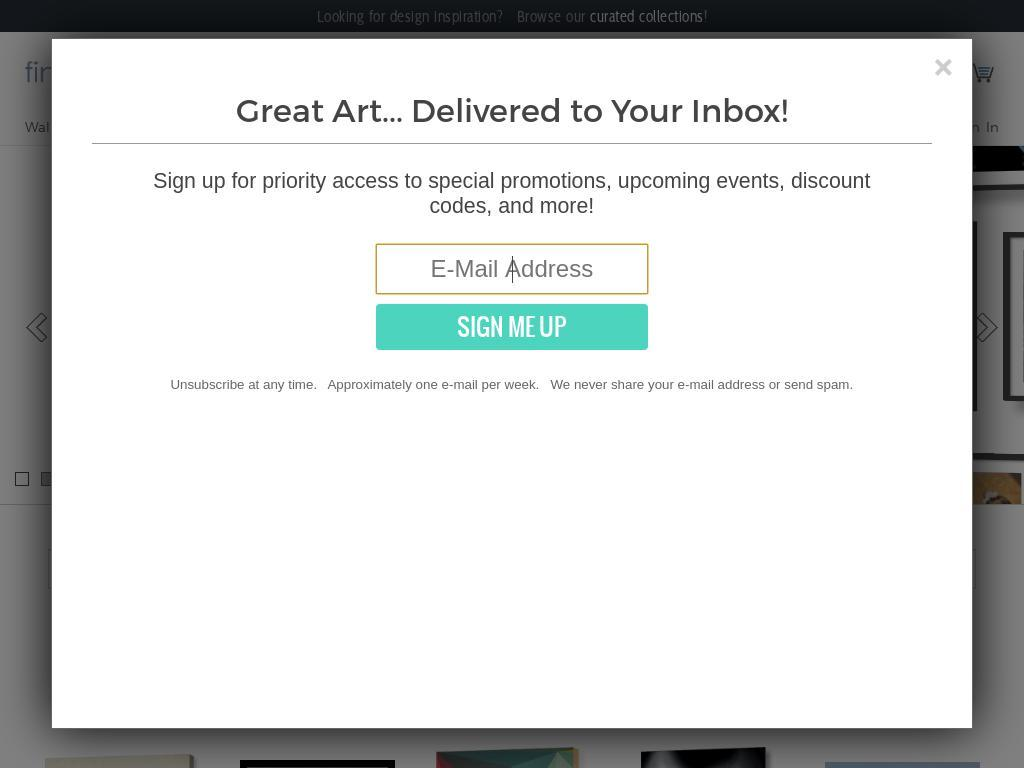button: (0, 146, 1024, 505), (0, 146, 1024, 505), (0, 146, 1024, 505), (0, 146, 1024, 505), (461, 549, 587, 590), (865, 549, 976, 590), (348, 549, 453, 590), (95, 111, 211, 147), (146, 549, 247, 590), (770, 111, 879, 147), (595, 549, 688, 590), (48, 549, 138, 590), (534, 111, 636, 147), (696, 549, 783, 590), (354, 111, 451, 147), (255, 549, 340, 590), (129, 327, 229, 361), (211, 111, 294, 147), (451, 111, 534, 147), (791, 549, 857, 590), (25, 111, 95, 147), (936, 111, 999, 147), (781, 60, 865, 86), (294, 111, 354, 147), (879, 111, 936, 147), (712, 60, 778, 86), (868, 60, 926, 86), (70, 381, 152, 391), (219, 381, 289, 391), (153, 381, 217, 391), (652, 64, 678, 82), (969, 65, 999, 78)
field: (256, 56, 652, 90)
heading: (51, 242, 308, 313)
image: (475, 445, 728, 595), (479, 443, 732, 592), (552, 45, 748, 173), (555, 49, 750, 177), (489, 231, 627, 392), (495, 232, 633, 393), (803, 234, 942, 384), (805, 233, 943, 383), (349, 61, 430, 189), (354, 64, 435, 192), (805, 38, 886, 166), (803, 42, 884, 170), (349, 253, 430, 381), (354, 253, 435, 381), (664, 248, 745, 376), (349, 452, 430, 580), (354, 450, 435, 578), (778, 459, 859, 587), (926, 465, 1007, 593), (923, 462, 1004, 590), (349, 635, 430, 763), (354, 631, 435, 759), (479, 637, 560, 765), (664, 249, 745, 376), (779, 462, 860, 589), (475, 642, 556, 768), (609, 644, 690, 768), (949, 34, 1024, 162), (608, 649, 688, 768), (745, 652, 826, 768), (953, 30, 1024, 158), (746, 657, 827, 768), (25, 60, 225, 84), (463, 602, 751, 614), (436, 747, 589, 768), (463, 431, 751, 442), (640, 747, 775, 768), (540, 33, 771, 44), (540, 195, 771, 206), (475, 69, 499, 173), (479, 72, 502, 176), (791, 224, 803, 409), (463, 431, 475, 615), (45, 754, 200, 768), (620, 219, 631, 415), (477, 227, 488, 423), (477, 403, 650, 415), (791, 221, 964, 233), (973, 221, 984, 406), (742, 436, 753, 620), (337, 54, 349, 217), (766, 33, 778, 196), (540, 44, 552, 207), (337, 242, 349, 405), (999, 232, 1011, 395), (337, 438, 349, 601), (766, 447, 778, 610), (791, 32, 803, 194), (766, 236, 778, 398), (477, 219, 650, 230), (791, 407, 964, 418), (441, 49, 452, 212), (937, 24, 948, 187), (441, 440, 452, 603), (911, 450, 922, 613), (337, 619, 349, 768), (911, 26, 922, 188), (441, 241, 452, 403), (652, 238, 663, 400), (885, 450, 896, 612), (463, 625, 475, 768), (463, 59, 475, 198), (1011, 243, 1024, 371), (441, 624, 452, 768), (733, 640, 745, 768), (517, 57, 528, 195), (572, 631, 583, 768), (596, 632, 607, 768), (709, 638, 720, 768), (791, 191, 907, 203), (337, 438, 453, 450), (766, 606, 882, 618), (463, 625, 579, 637), (652, 394, 767, 406), (851, 646, 862, 768), (337, 49, 453, 60), (337, 202, 453, 213), (791, 26, 907, 37), (337, 241, 453, 252), (337, 391, 453, 402), (337, 586, 453, 597), (766, 447, 882, 458), (337, 619, 453, 630), (733, 640, 849, 651), (652, 236, 767, 247), (596, 632, 711, 643), (911, 450, 1024, 461), (911, 613, 1024, 624), (240, 760, 395, 768), (1016, 242, 1024, 370), (937, 18, 1024, 29), (937, 188, 1024, 199), (20, 310, 50, 341), (970, 310, 1000, 341), (825, 762, 980, 768), (463, 57, 522, 68), (463, 189, 522, 200), (969, 63, 994, 83), (652, 64, 670, 82), (999, 230, 1024, 241), (999, 399, 1024, 410), (337, 767, 453, 768)
link: (590, 8, 705, 24)
text: (25, 619, 999, 708), (51, 224, 308, 243), (316, 8, 590, 24), (41, 472, 53, 485), (67, 472, 79, 485), (93, 472, 105, 485), (119, 472, 131, 485), (703, 8, 707, 24)
